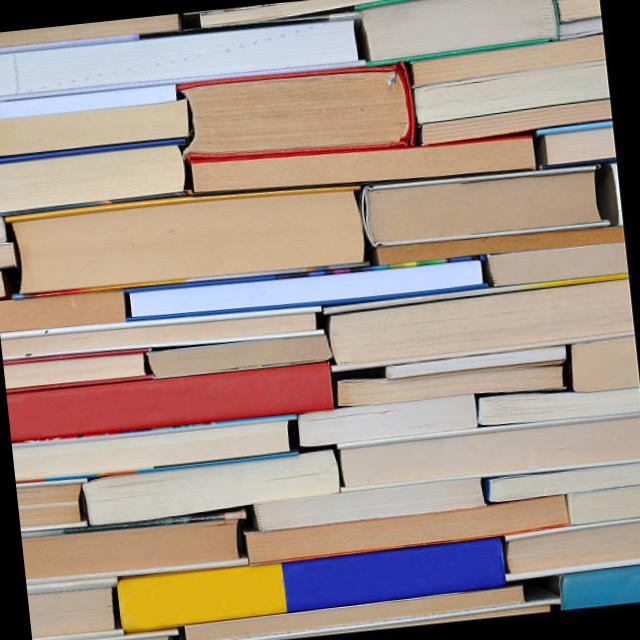electronic: (6, 180, 367, 300), (0, 12, 360, 102), (176, 59, 417, 170), (360, 160, 608, 248), (0, 140, 187, 215), (354, 0, 559, 63)
